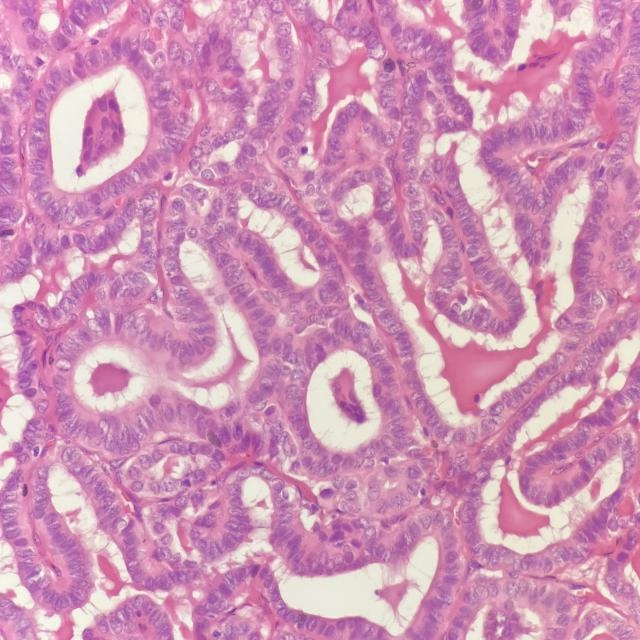TC: (377, 317, 412, 341), (478, 264, 507, 292), (221, 278, 258, 299), (198, 158, 222, 190), (439, 420, 463, 452), (167, 193, 192, 223), (255, 371, 278, 401), (138, 149, 156, 186), (160, 252, 182, 281), (301, 288, 323, 317), (326, 215, 350, 241), (137, 203, 159, 231), (311, 193, 335, 218), (284, 384, 305, 412), (272, 189, 292, 218), (159, 134, 188, 154), (569, 147, 590, 174), (437, 223, 463, 244), (553, 310, 576, 333), (398, 183, 424, 203), (376, 195, 398, 218), (395, 147, 423, 165), (107, 173, 123, 203), (170, 279, 195, 297), (137, 257, 159, 275), (499, 388, 515, 412), (380, 129, 396, 152), (202, 330, 214, 353)
